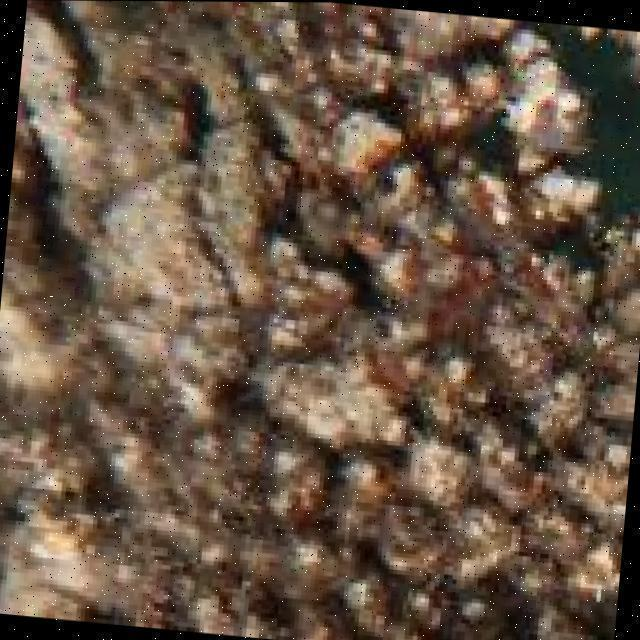Dead Coral: (53, 33, 627, 638)
